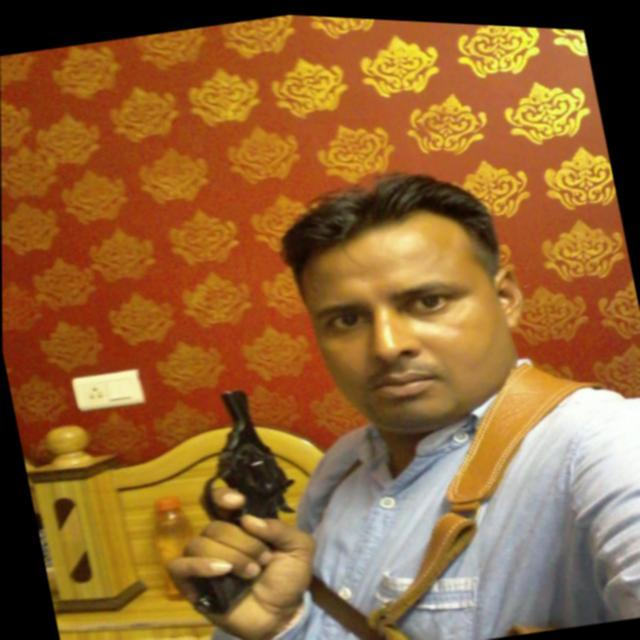weapon: (140, 368, 327, 631)
